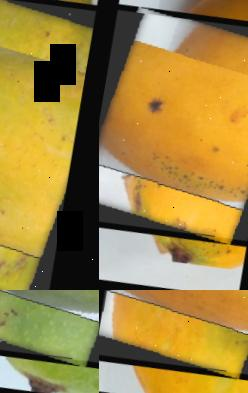PartiallyRipe: (0, 0, 98, 290)
Ripe: (99, 1, 248, 247), (99, 290, 248, 382)
Unripe: (0, 290, 99, 370)
